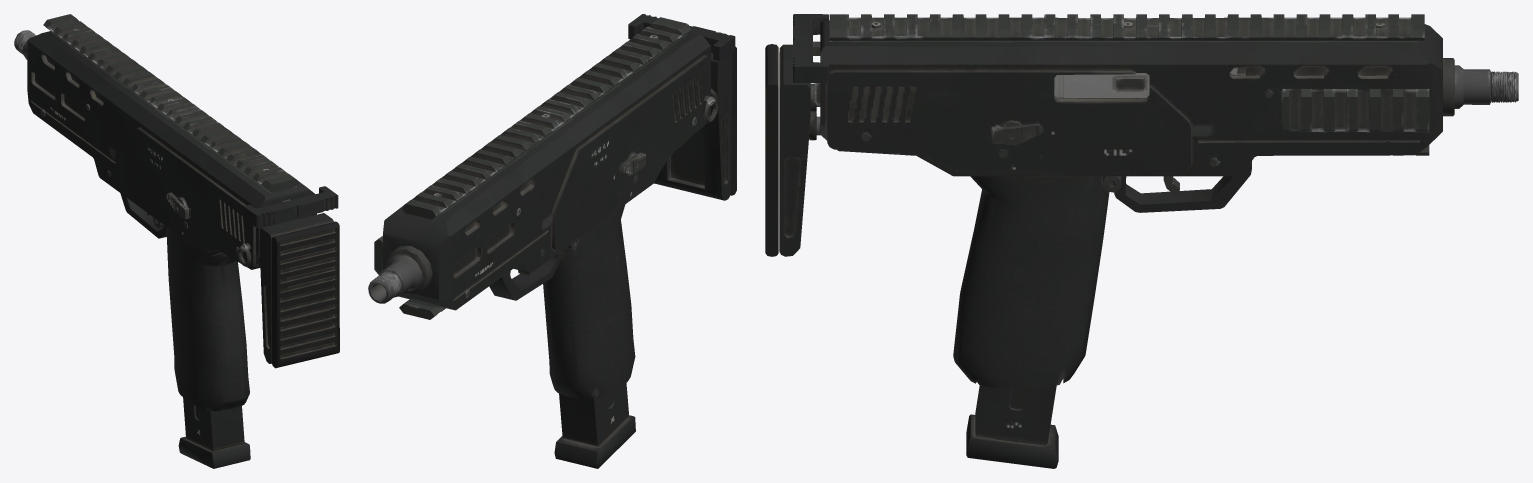
The model's file is smg_9mm_leve.glb.
The picture shows the model from 3 angles, left to right: view 1: azimuth 30°, elevation 25°; view 2: azimuth 150°, elevation 25°; view 3: azimuth 270°, elevation 25°; orthographic projection. The views are drawn at different scales.
Parts seen in each view (by area): view 1: smg_9mm_leve; view 2: smg_9mm_leve; view 3: smg_9mm_leve.
Boxes of the visible parts, x1,y1,x2,y2 form: smg_9mm_leve: (14, 14, 339, 468); smg_9mm_leve: (368, 14, 736, 468); smg_9mm_leve: (765, 14, 1518, 468).
Bounding box in the file's own units: 0.0547 × 0.2098 × 0.329.
1 material, 1 textured.
